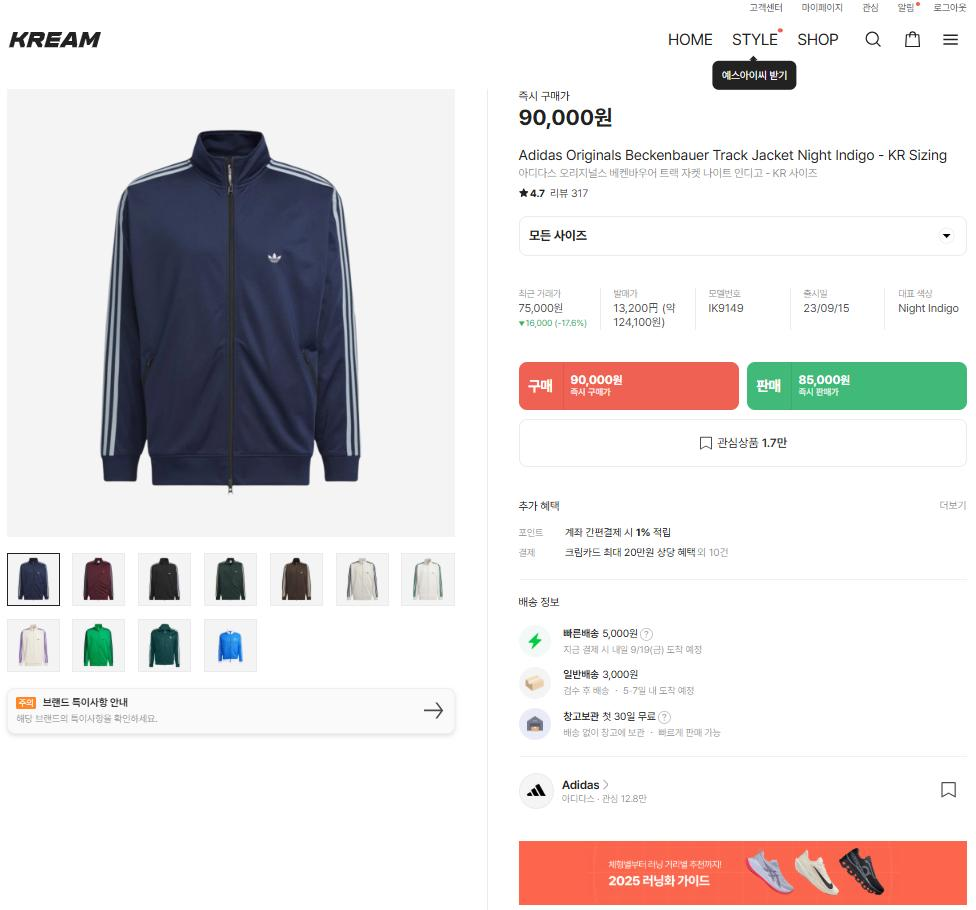button: (521, 421, 966, 465), (14, 694, 444, 733), (518, 365, 741, 412), (751, 364, 969, 409), (199, 620, 265, 669), (134, 551, 190, 606), (6, 551, 59, 608), (203, 552, 254, 608), (69, 553, 121, 606), (268, 556, 325, 604), (339, 550, 389, 604), (72, 620, 122, 674), (139, 618, 188, 671), (401, 553, 453, 601), (10, 624, 56, 675), (724, 30, 791, 55), (669, 28, 711, 52), (800, 30, 841, 49), (559, 771, 610, 786), (934, 781, 964, 805), (794, 3, 844, 16), (940, 30, 964, 54), (900, 26, 930, 45), (858, 34, 892, 49), (934, 495, 964, 511), (933, 0, 976, 11), (744, 0, 785, 11), (862, 0, 888, 14), (898, 0, 920, 16)
checkbox: (520, 215, 964, 256)
